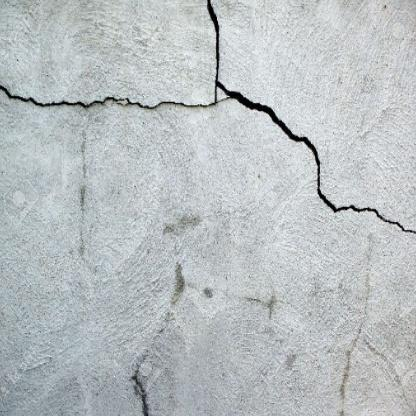Cracks: (0, 0, 416, 246)
